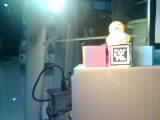duck: (97, 14, 134, 48)
